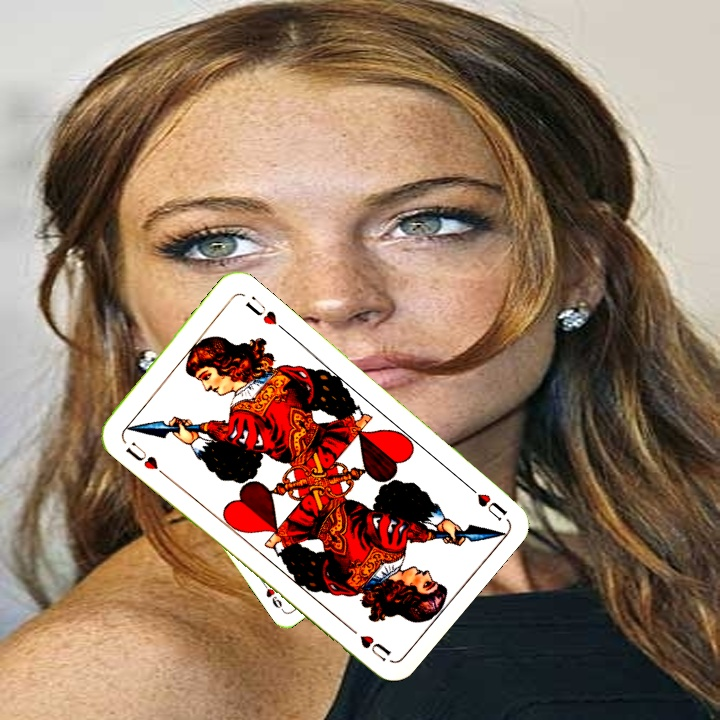HU: (460, 478, 510, 524), (121, 437, 161, 473)
